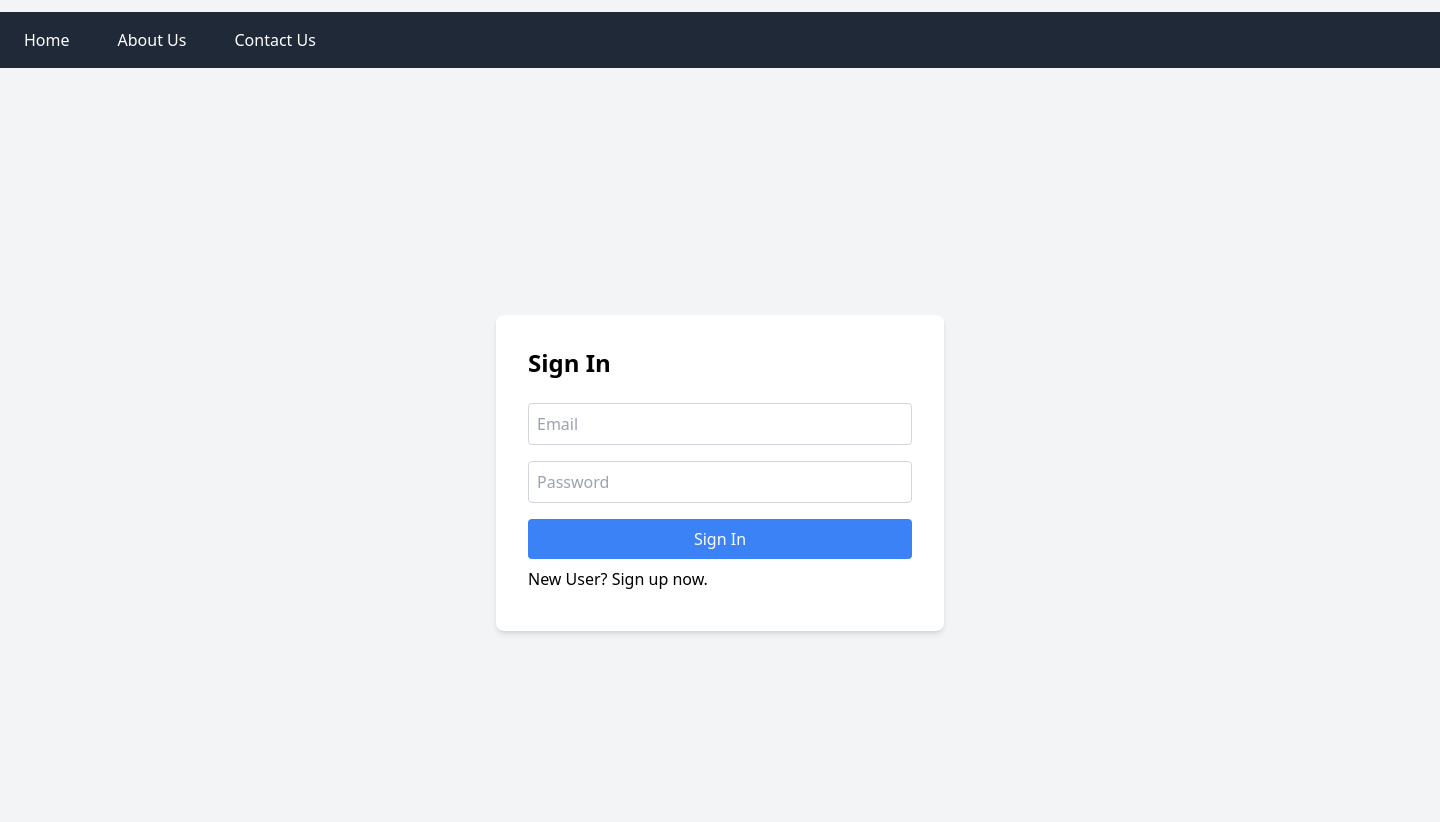
it: Login Component test cases › should toggle to sign up form
Click the text "New User? Sign up now.": (618,579) 528,568 -> 708,590
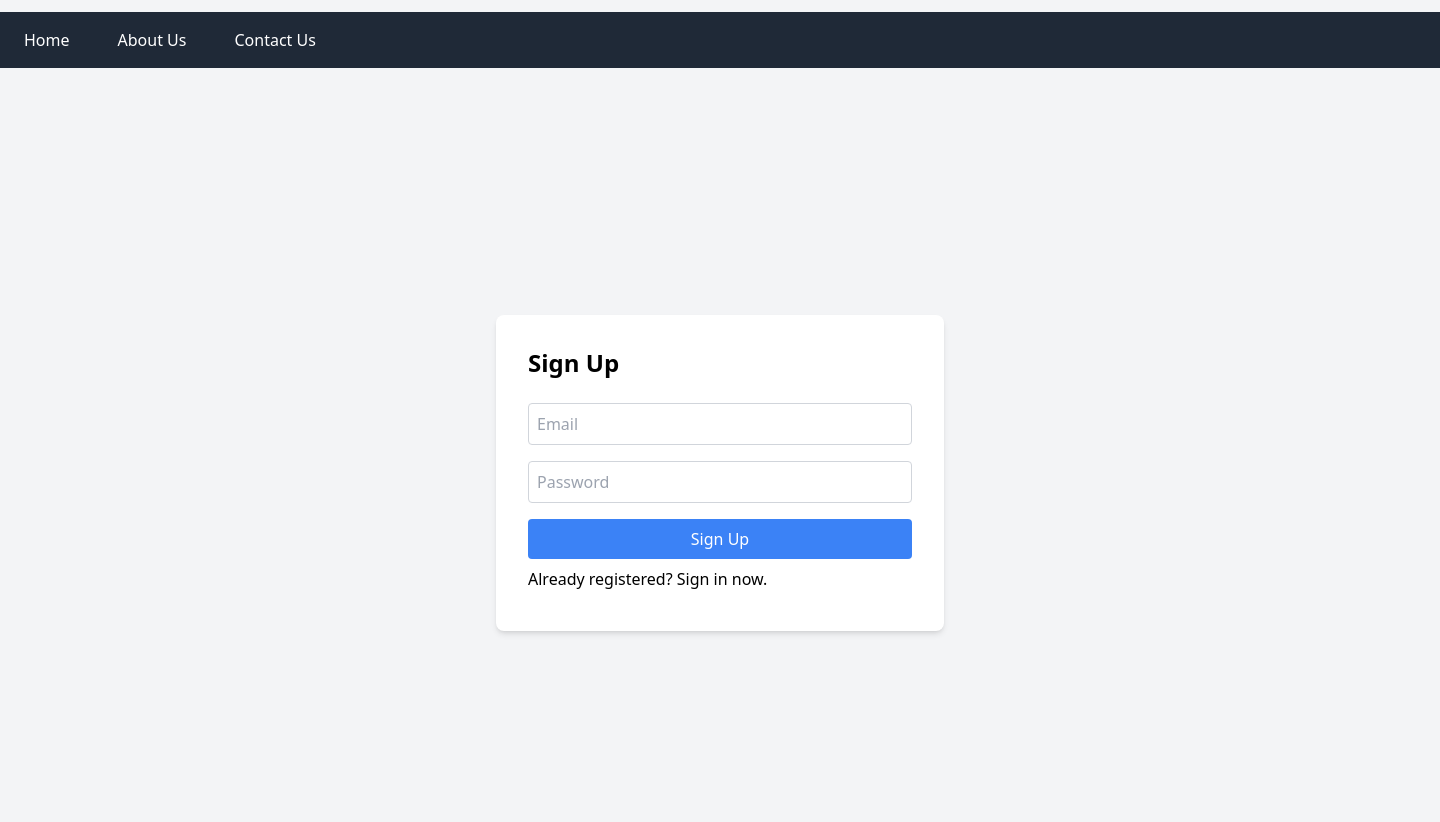
Now the heading "Sign Up" is shown, box 528,346 -> 619,379
Now the text "Already registered? Sign in now." is shown, box 528,568 -> 767,590
